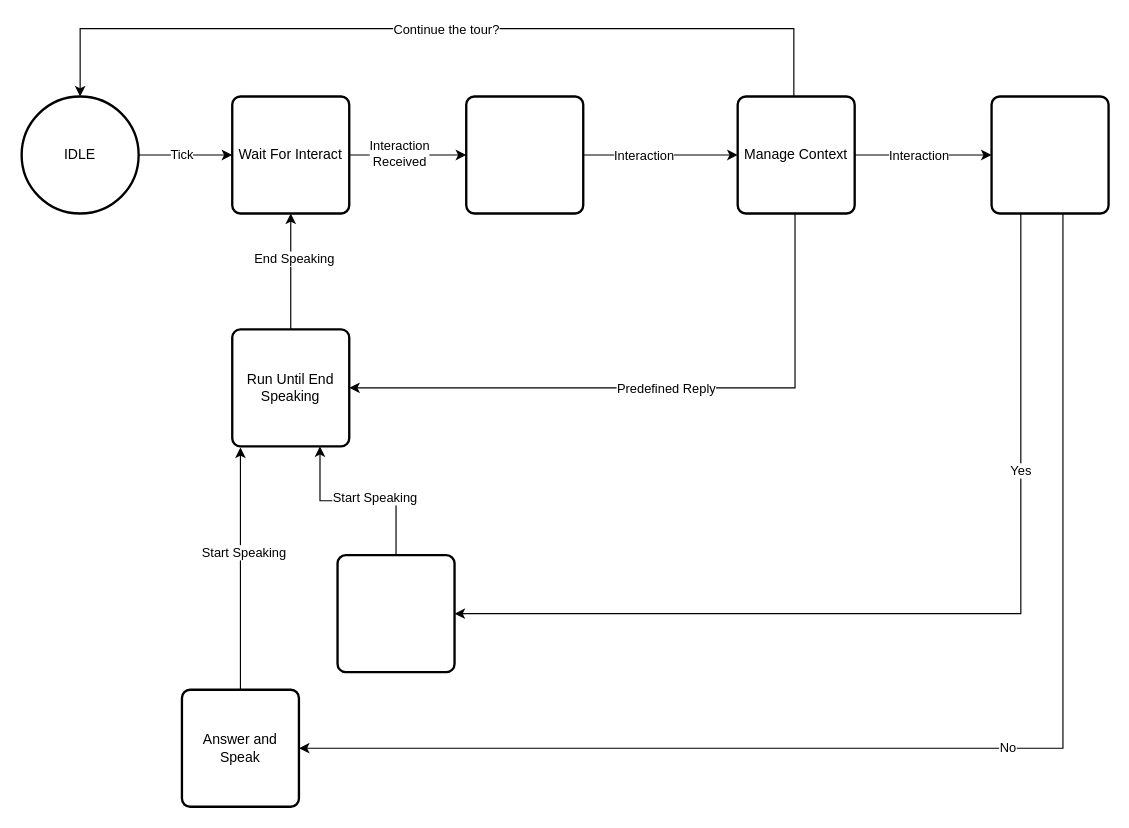
The diagram is 1129 pixels wide and 828 high, and some of its shapes have lost their labels. The shapes that lost their labels are listed below. From the top down, each one's box as (x1, y1, x2, y2) in pixels, then its label:
(464, 95, 584, 214): Set Language
(990, 95, 1109, 214): Check Duplicate
(336, 553, 455, 673): Shorten and Speak
